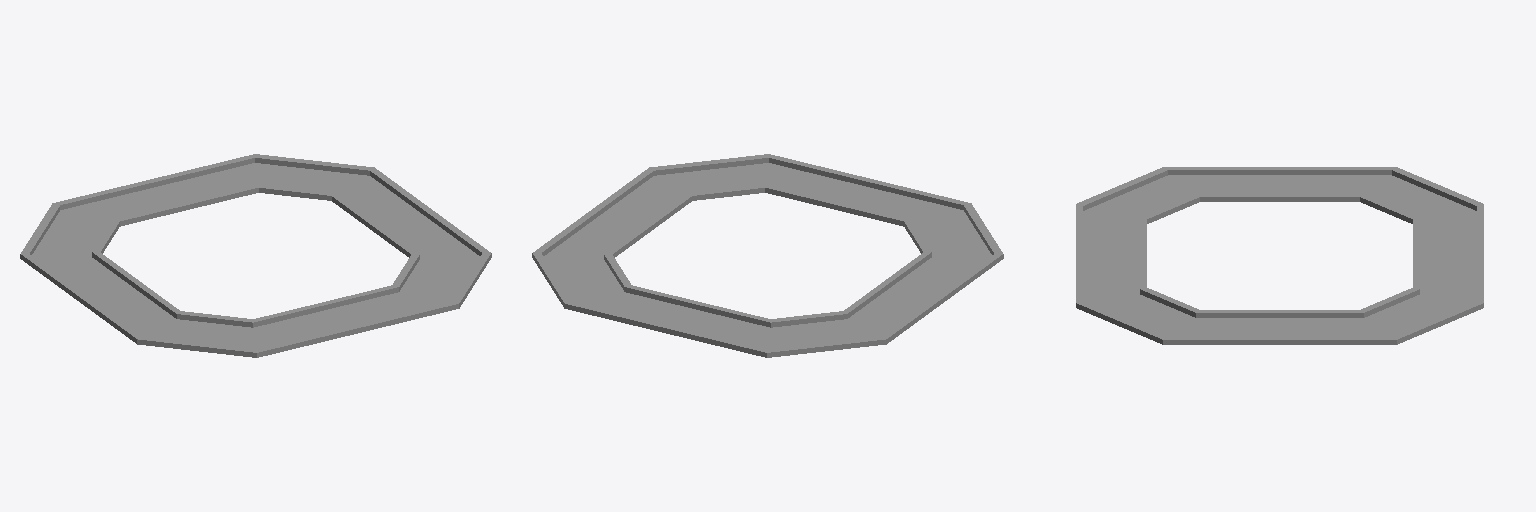
File: basicTrack.obj
The picture shows the model from 3 angles: view 1: azimuth 30°, elevation 25°; view 2: azimuth 150°, elevation 25°; view 3: azimuth 270°, elevation 25°; orthographic projection.
Size of the model in its own units: 7.28 by 0.1 by 7.28.